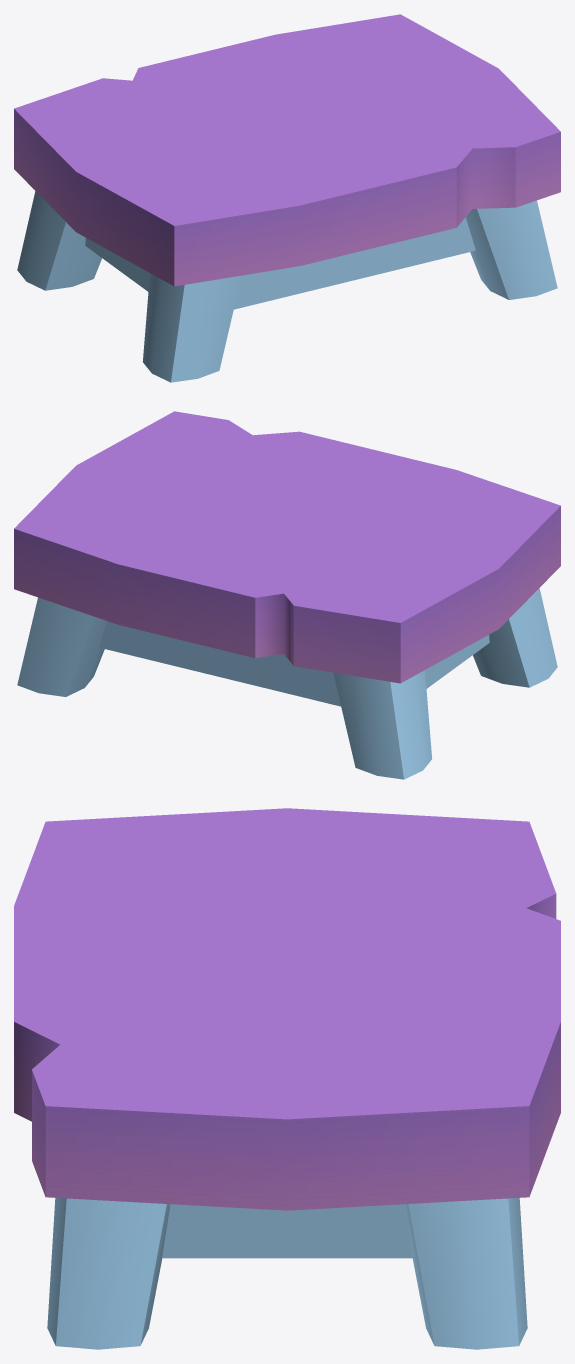
Rendered from table.fbx.
The picture shows the model from 3 angles, top to bottom: view 1: azimuth 30°, elevation 25°; view 2: azimuth 150°, elevation 25°; view 3: azimuth 270°, elevation 25°; orthographic projection. The views are drawn at different scales.
Parts seen in each view (by area): view 1: table; view 2: table; view 3: table.
Boxes of the visible parts, bbox=[...] form: table: bbox=[14, 14, 560, 382]; table: bbox=[14, 411, 560, 779]; table: bbox=[14, 808, 560, 1349].
Size of the model in its own units: 87.5 by 31.46 by 65.
